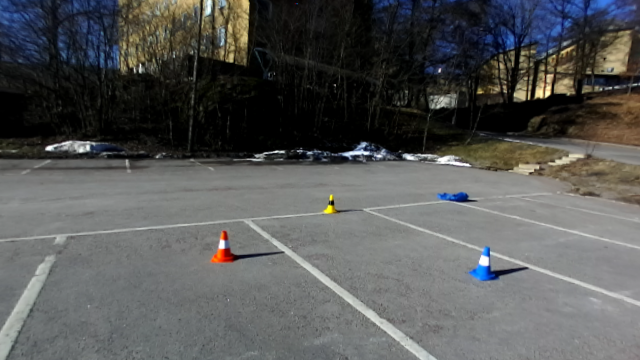blue: (470, 243, 499, 283)
orange: (209, 230, 238, 263)
yellow: (320, 193, 340, 216)
